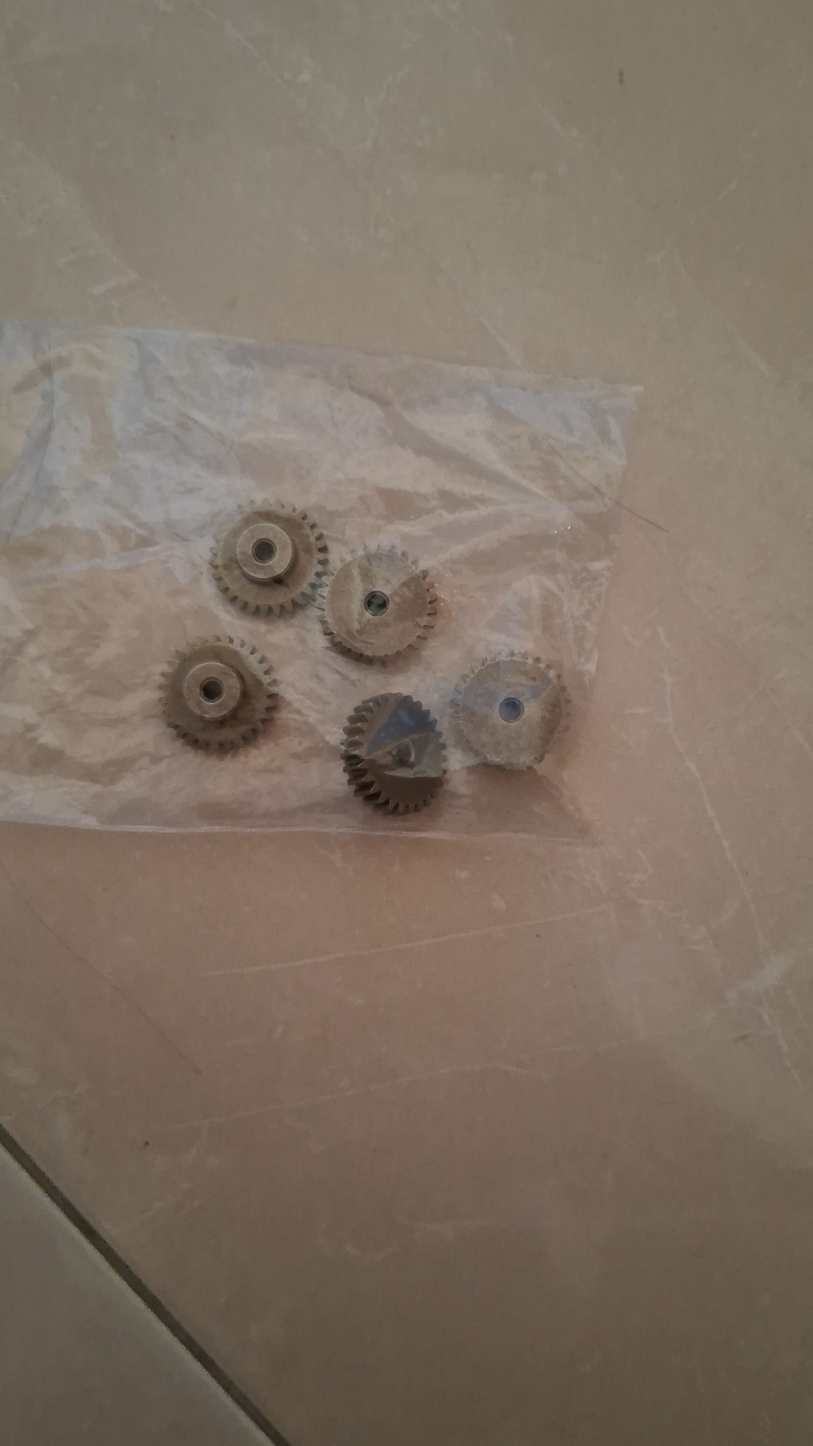spur gear: (452, 653, 569, 769), (319, 548, 437, 663), (210, 501, 327, 614), (163, 637, 277, 750), (342, 693, 445, 813)
